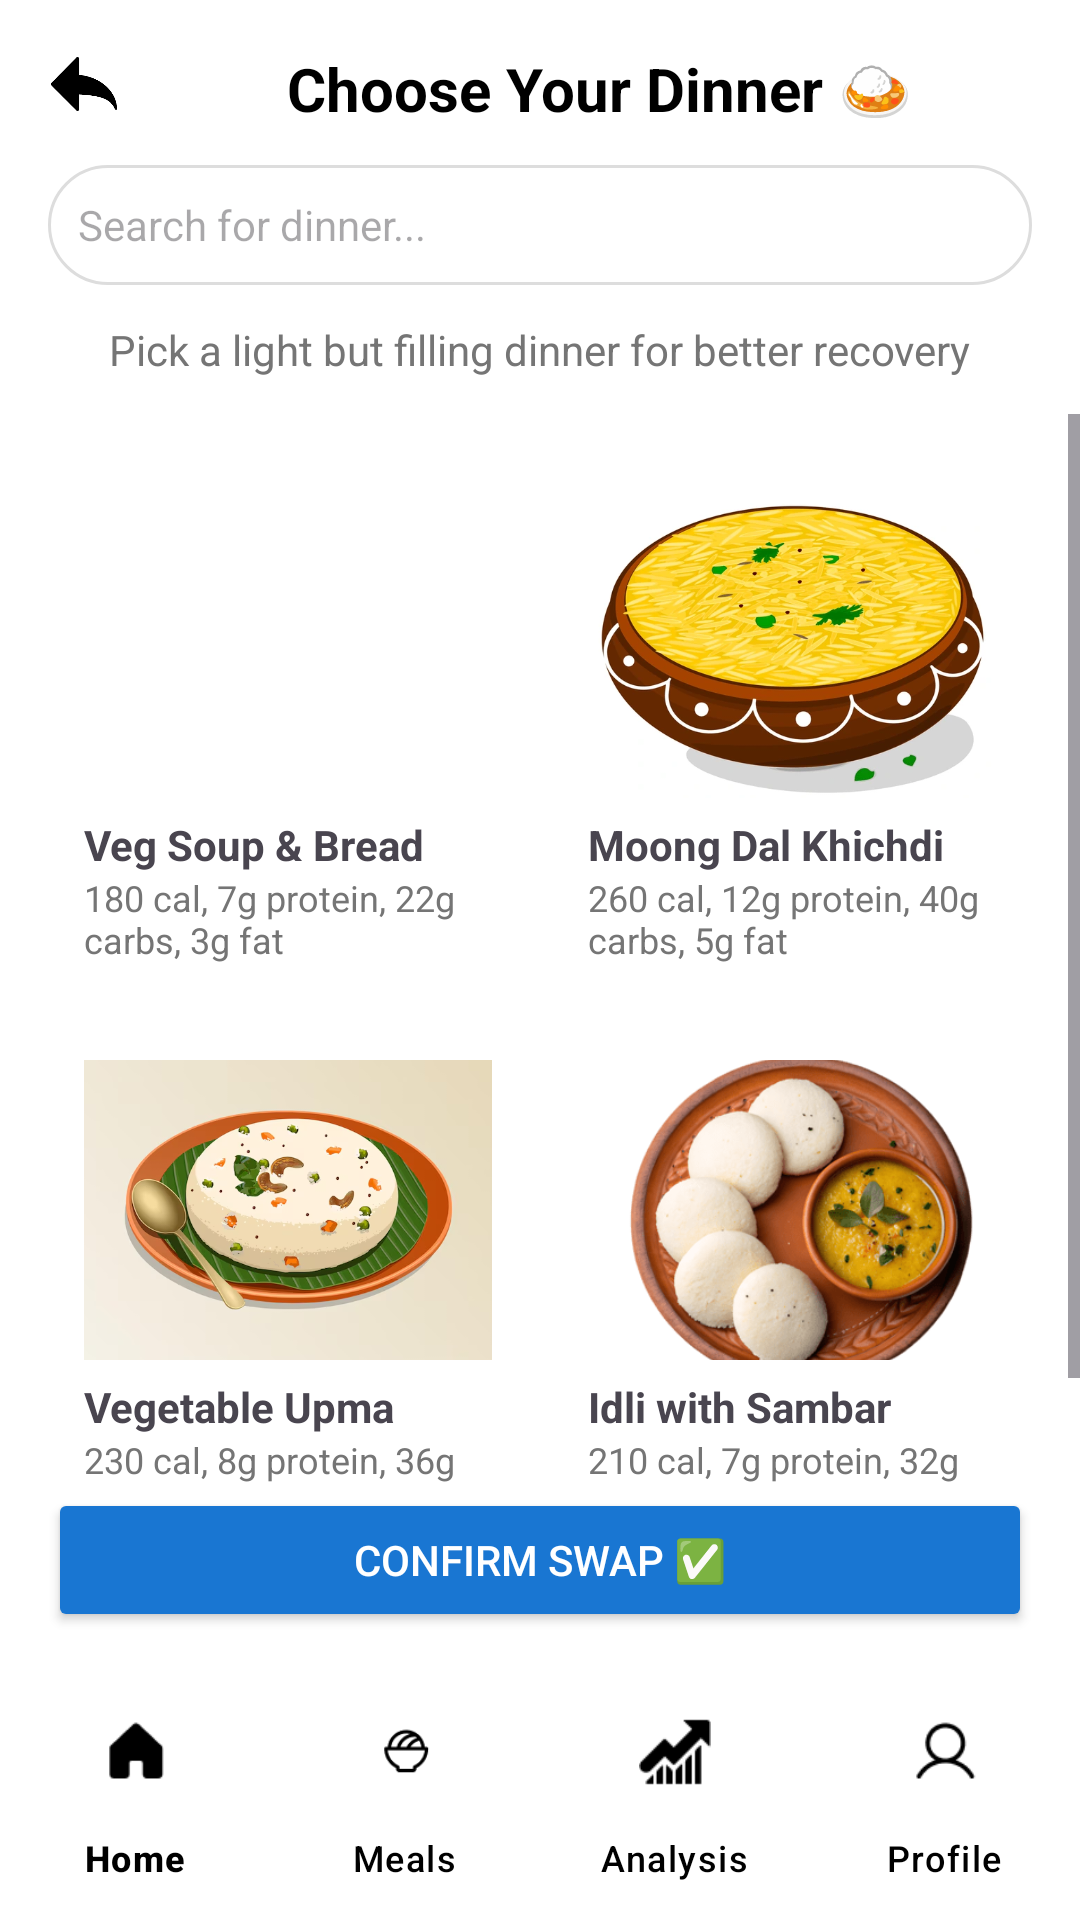

Where to tap for icons on this 1080×1920 app screen, as [x,y]:
backarrow: [84,84]
